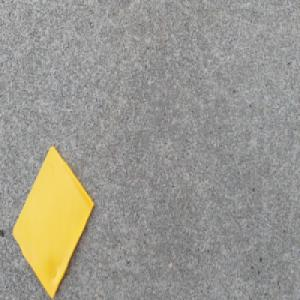PlasticPart: (11, 142, 95, 300)
